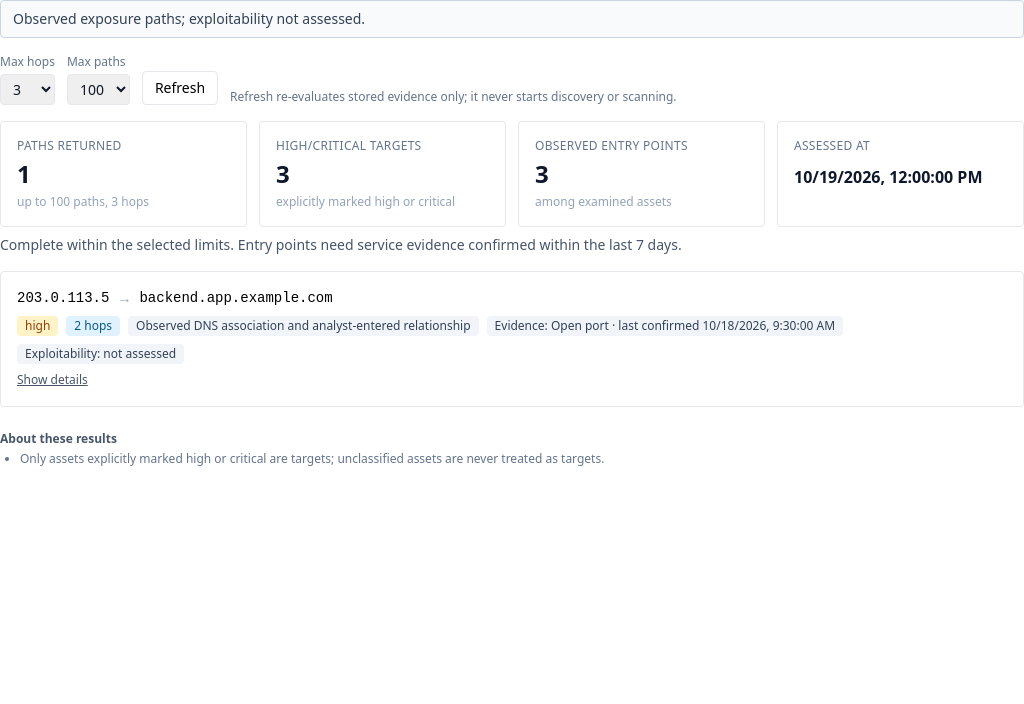
Test: ExposurePathsPage › renders a multi-hop path with ordered steps and analyst provenance
The image size is (1024, 704).
expect the text "2 hops" is shown: met, box [66, 316, 120, 336]
expect the text "Observed DNS association and analyst-entered relationship" is shown: met, box [128, 316, 479, 336]
Click the button "Show details".
click(52, 380)  # box [17, 372, 88, 388]
(page scrolled)
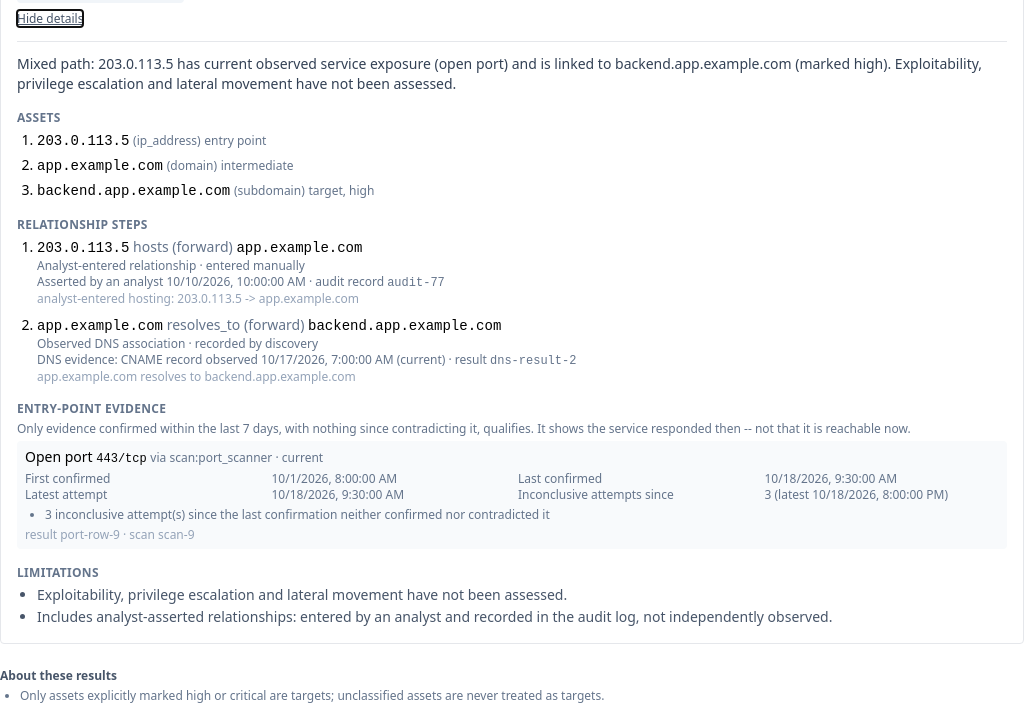
expect the list item that starts with "hosts" shows "Analyst-entered relationship · entered manually": met, box [37, 237, 445, 307]
expect the list item that starts with "hosts" shows "audit record audit-77": met, box [37, 237, 445, 307]
expect the 5th list item shows "Observed DNS association · recorded by discovery": met, box [37, 315, 576, 385]
